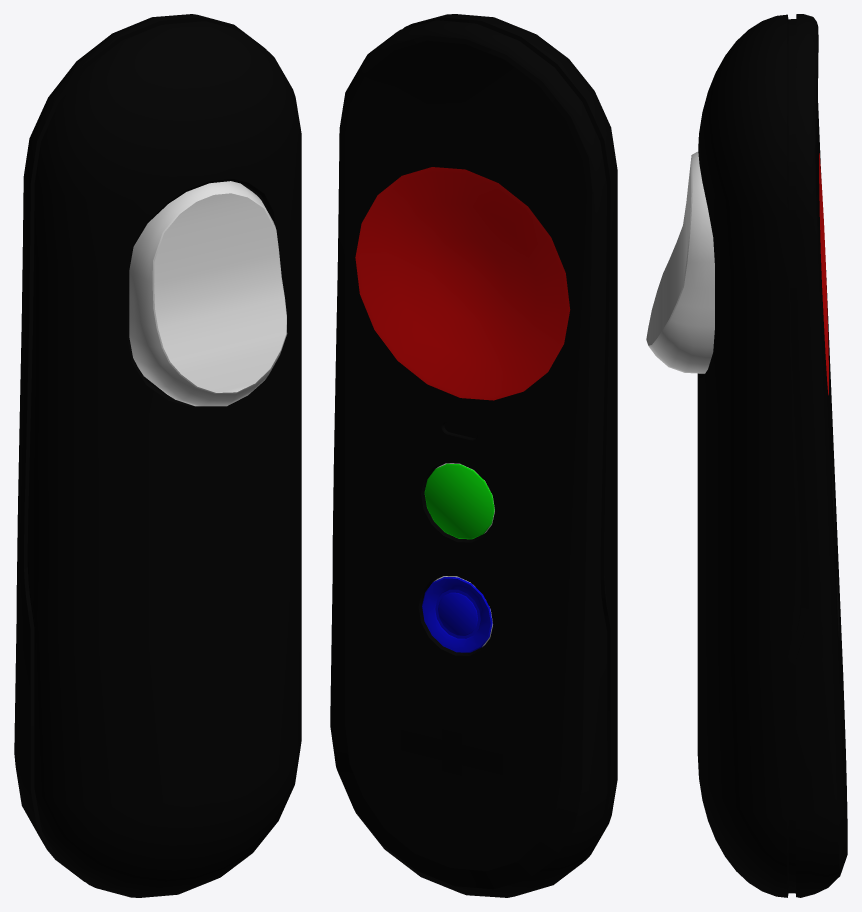
Rendered from Controller.FBX.
The picture shows the model from 3 angles, left to right: view 1: azimuth 30°, elevation 25°; view 2: azimuth 150°, elevation 25°; view 3: azimuth 270°, elevation 25°; orthographic projection.
Parts seen in each view (by area): view 1: Handle001, Trigger001; view 2: Handle001; view 3: Handle001, Trigger001.
Part boxes in pixels (left/top/right/bottom): Handle001: left=14, top=14, right=301, bottom=897; Trigger001: left=129, top=181, right=287, bottom=406; Handle001: left=330, top=14, right=617, bottom=897; Handle001: left=697, top=14, right=847, bottom=897; Trigger001: left=646, top=151, right=714, bottom=373.
Size of the model in its own units: 37.91 by 25.55 by 120.
